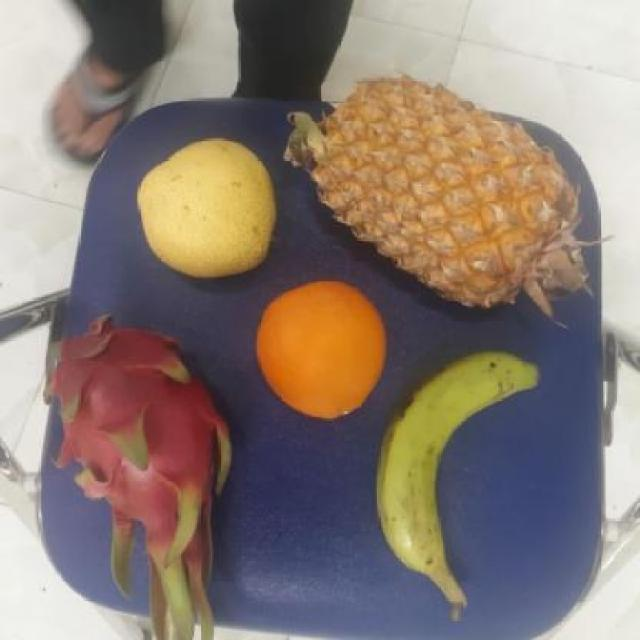banana: (378, 350, 542, 604)
dragon fruit: (40, 313, 242, 604)
oren: (253, 277, 393, 421)
pear: (129, 140, 282, 283)
pineapple: (300, 80, 597, 314)
